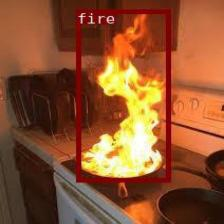fire: (75, 8, 170, 180)
